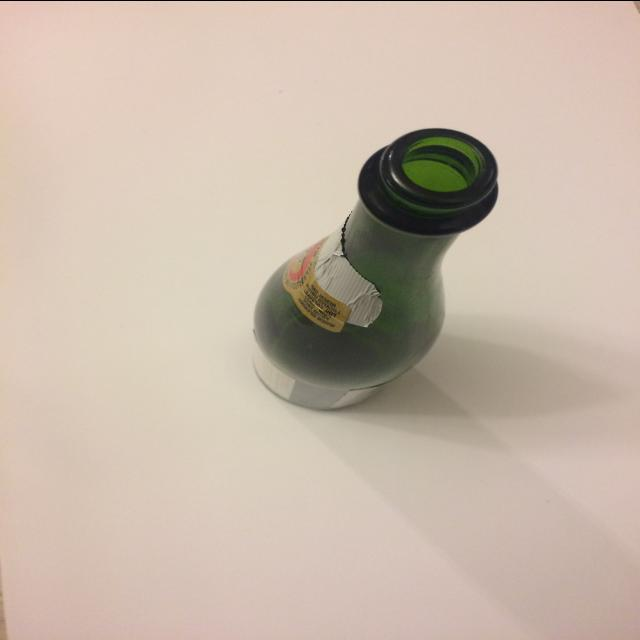glass: (233, 127, 502, 426)
